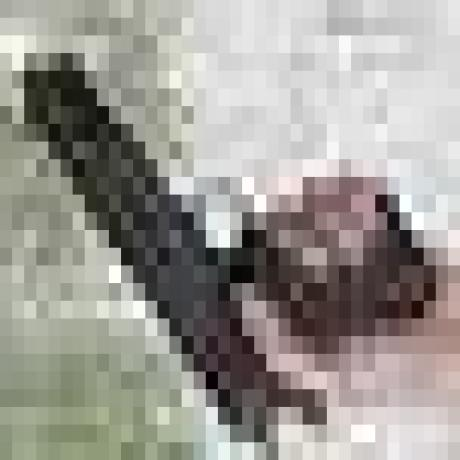weapon: (23, 49, 392, 453)
